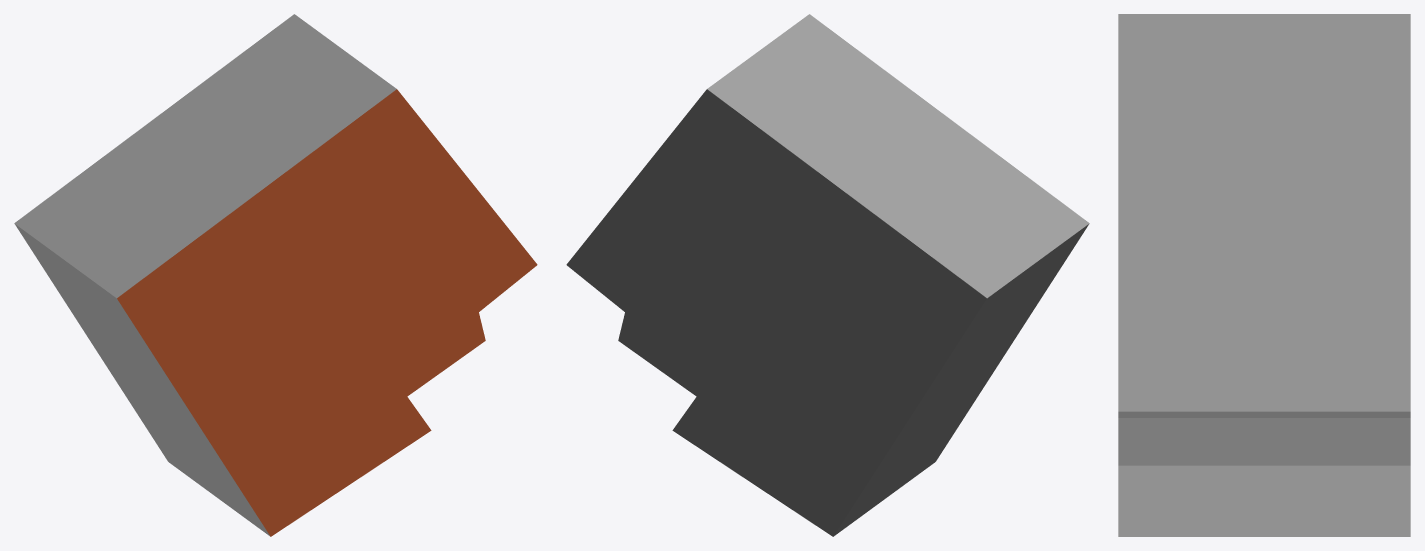
The model's file is construction_5025_assumed_A_Casa_h6m.obj.
3 renders of one model, left to right at view 1: azimuth 30°, elevation 25°; view 2: azimuth 150°, elevation 25°; view 3: azimuth 270°, elevation 25°, orthographic. The views are drawn at different scales.
Visible parts, largest first — view 1: construction_5025_assumed_A_Casa; view 2: construction_5025_assumed_A_Casa; view 3: construction_5025_assumed_A_Casa.
Boxes of the visible parts, x1,y1,x2,y2 form: construction_5025_assumed_A_Casa: [14, 14, 537, 536]; construction_5025_assumed_A_Casa: [566, 14, 1089, 536]; construction_5025_assumed_A_Casa: [1118, 14, 1410, 536].
Bounding box in the file's own units: 14.22 × 13.46 × 6.
